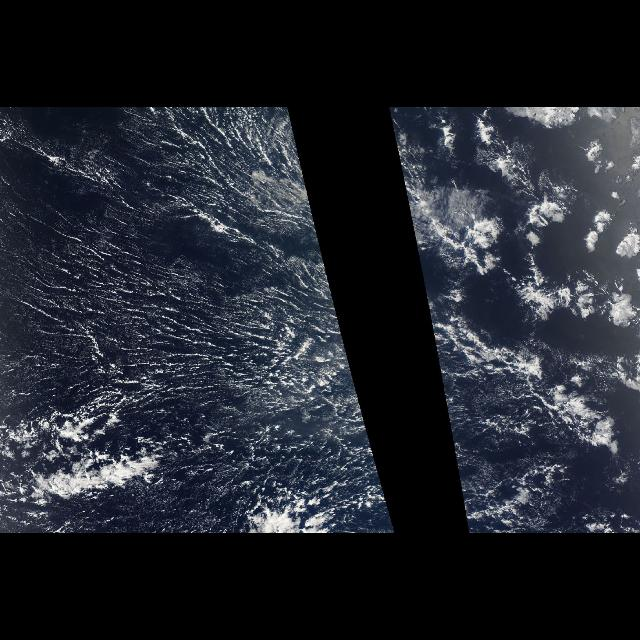Flower: (532, 146, 640, 462)
Sugar: (3, 111, 370, 433)
